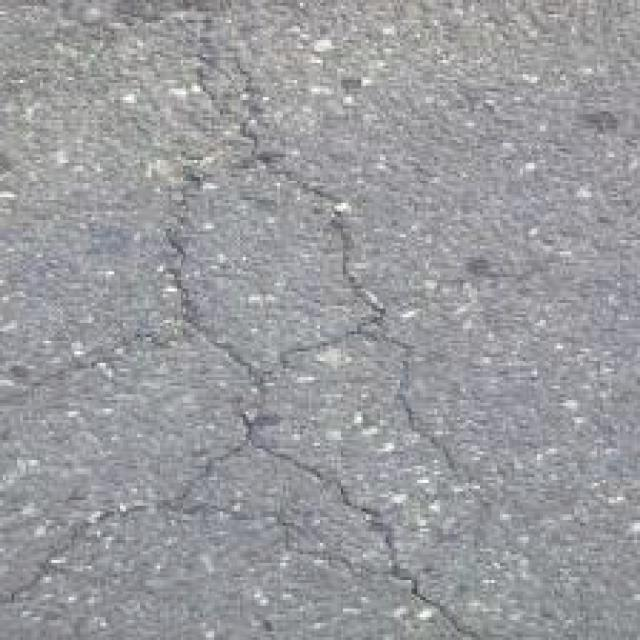crack: (130, 116, 498, 640)
